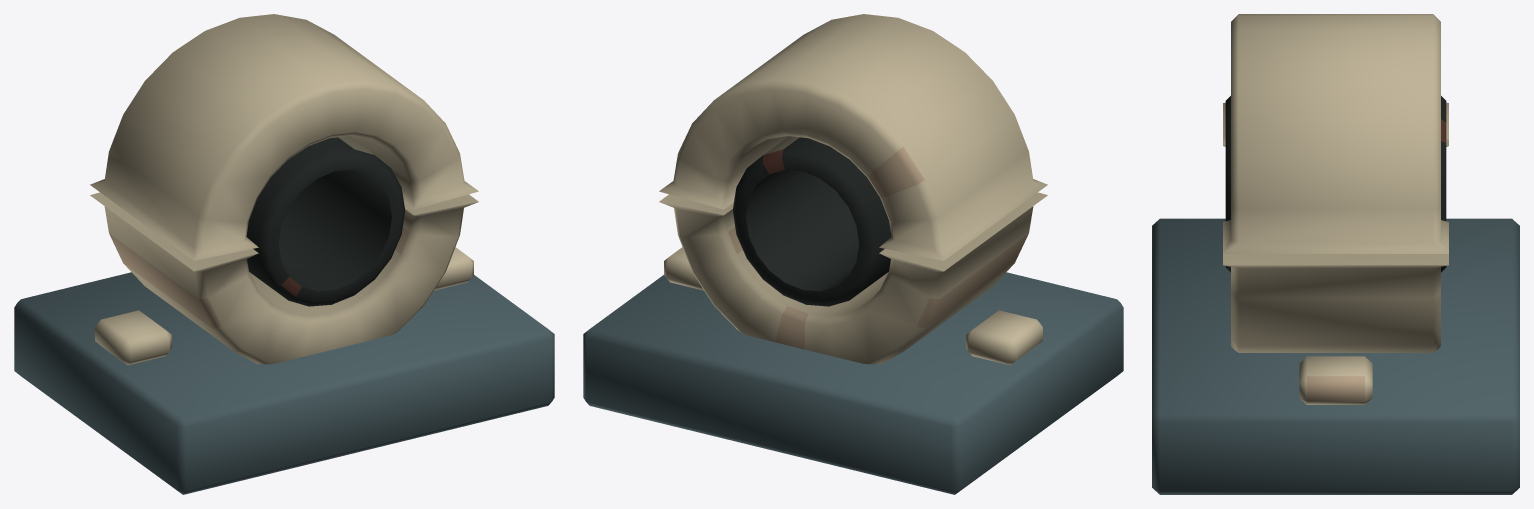
The model's file is prop_bearing.glb.
3 views of the same model, side by side, from view 1: azimuth 30°, elevation 25°; view 2: azimuth 150°, elevation 25°; view 3: azimuth 270°, elevation 25° (orthographic). The views are drawn at different scales.
Parts seen in each view (by area): view 1: Surface; view 2: Surface; view 3: Surface.
Boxes of the visible parts, x1,y1,x2,y2 form: Surface: (14, 14, 554, 494); Surface: (583, 14, 1123, 494); Surface: (1152, 14, 1519, 494).
Size of the model in its own units: 1.8 by 1.55 by 1.4.
